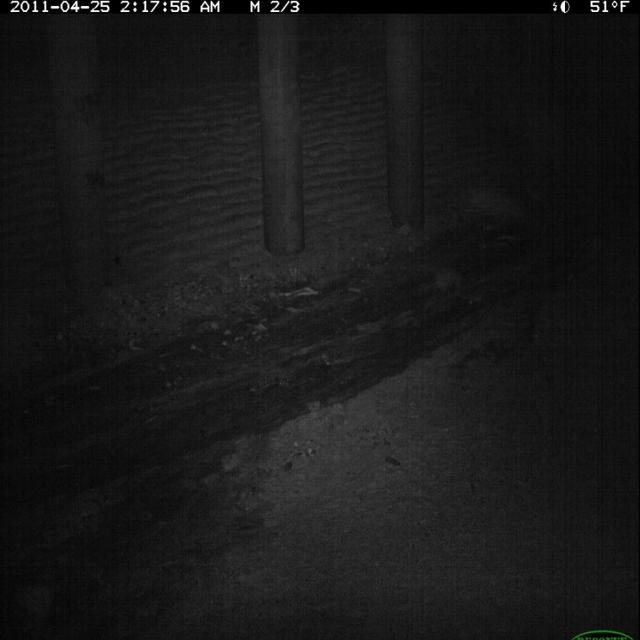opossum: (410, 261, 468, 305)
